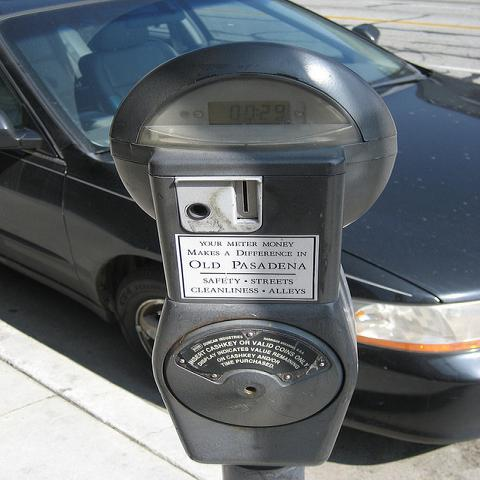car: (1, 0, 479, 446)
